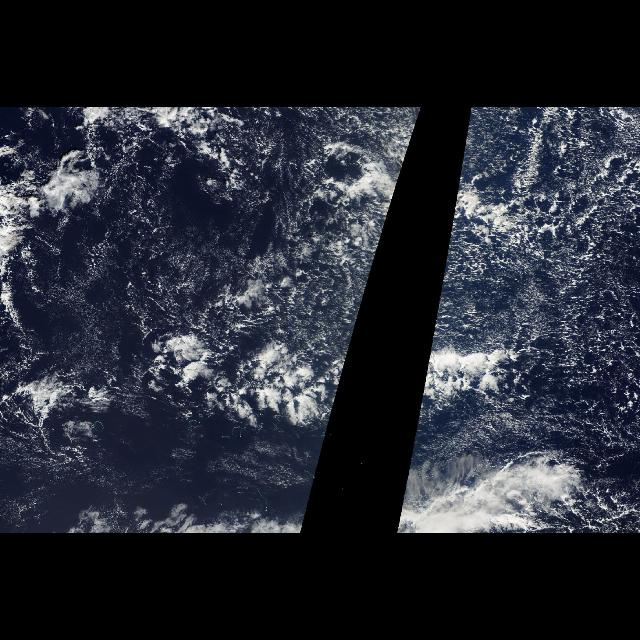Fish: (146, 329, 357, 426), (416, 329, 526, 426)
Gravel: (419, 110, 639, 442), (294, 123, 418, 395)
Sugar: (412, 118, 632, 458), (288, 118, 418, 438), (54, 199, 230, 385)
